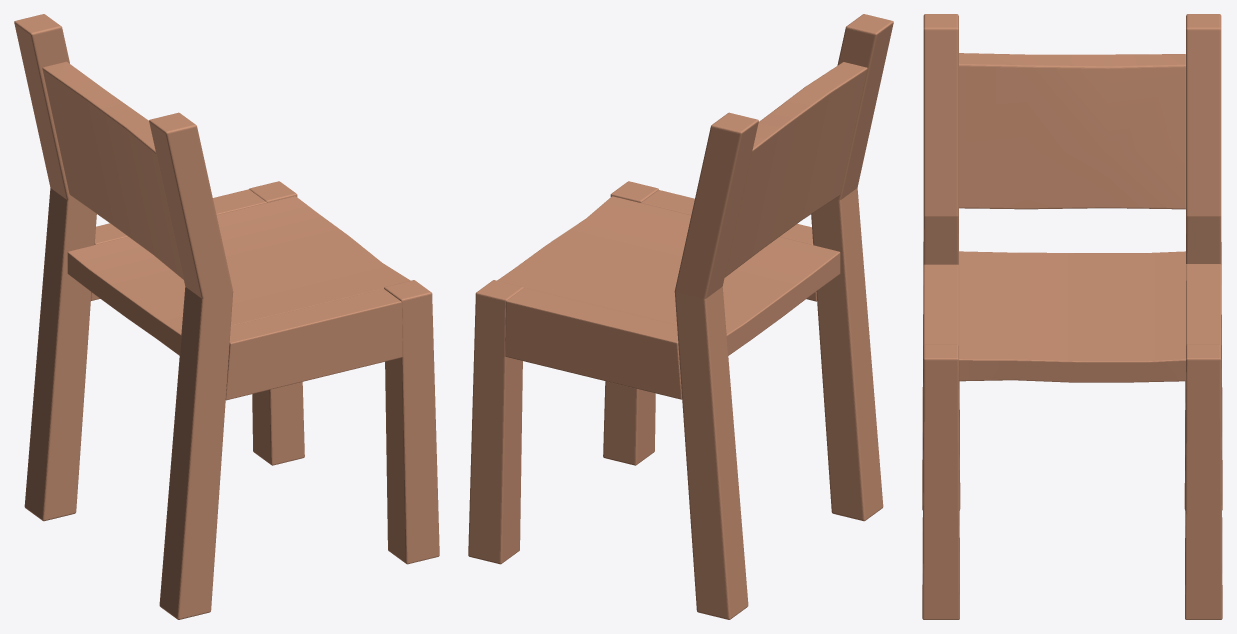
File: stoel.fbx
3 renders of one model, left to right at view 1: azimuth 30°, elevation 25°; view 2: azimuth 150°, elevation 25°; view 3: azimuth 270°, elevation 25°, orthographic. The views are drawn at different scales.
Parts seen in each view (by area): view 1: Box025Shape3; view 2: Box025Shape3; view 3: Box025Shape3.
Boxes of the visible parts, x1=… form: Box025Shape3: x1=14, y1=14, x2=439, y2=619; Box025Shape3: x1=468, y1=14, x2=893, y2=619; Box025Shape3: x1=922, y1=14, x2=1222, y2=619.
Size of the model in its own units: 69.36 by 119 by 67.86.
